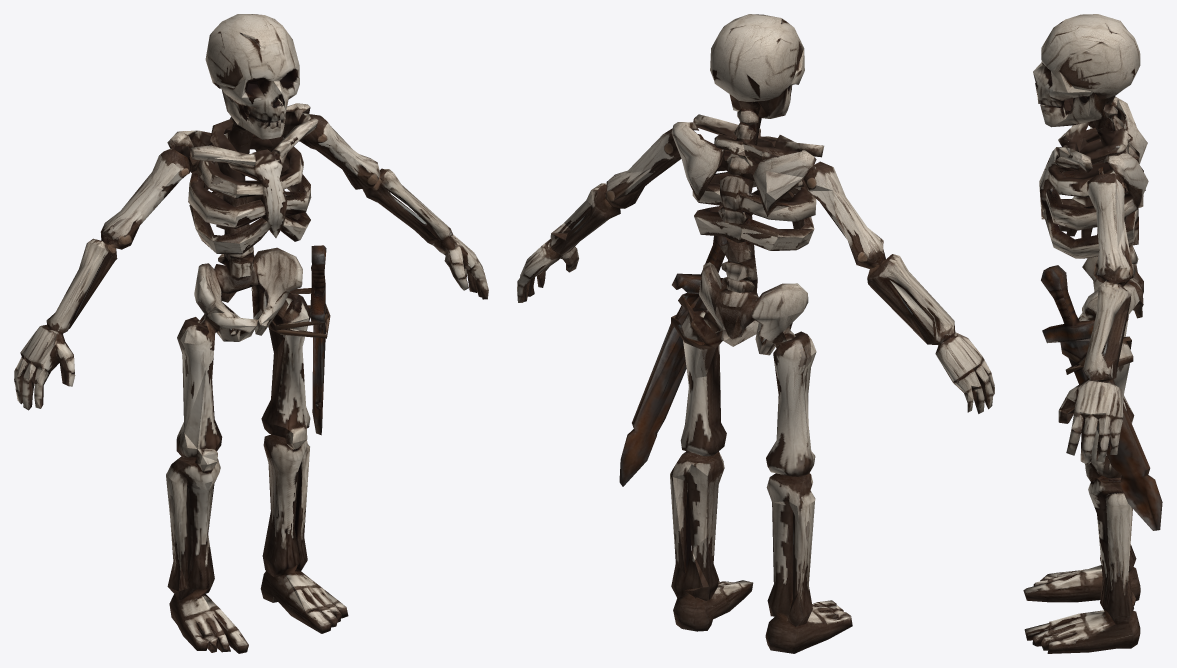
Rendered from INS_Skeleton.fbx.
3 renders of one model, left to right at view 1: azimuth 30°, elevation 25°; view 2: azimuth 150°, elevation 25°; view 3: azimuth 270°, elevation 25°, orthographic.
Visible parts, largest first — view 1: Mesh_0; view 2: Mesh_0; view 3: Mesh_0.
Boxes of the visible parts, x1=… form: Mesh_0: x1=14, y1=14, x2=488, y2=653; Mesh_0: x1=517, y1=14, x2=994, y2=653; Mesh_0: x1=1023, y1=14, x2=1162, y2=653.
Size of the model in its own units: 154 by 190 by 39.94.
1 material, 1 textured.
